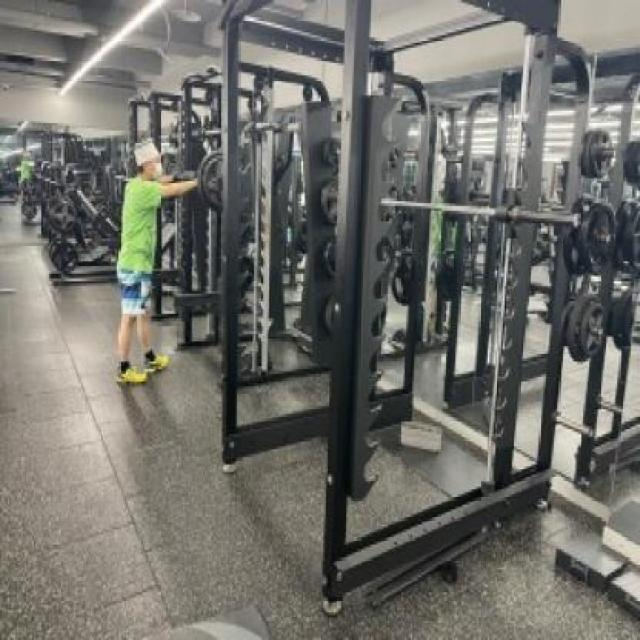smith machine: (212, 0, 557, 617)
